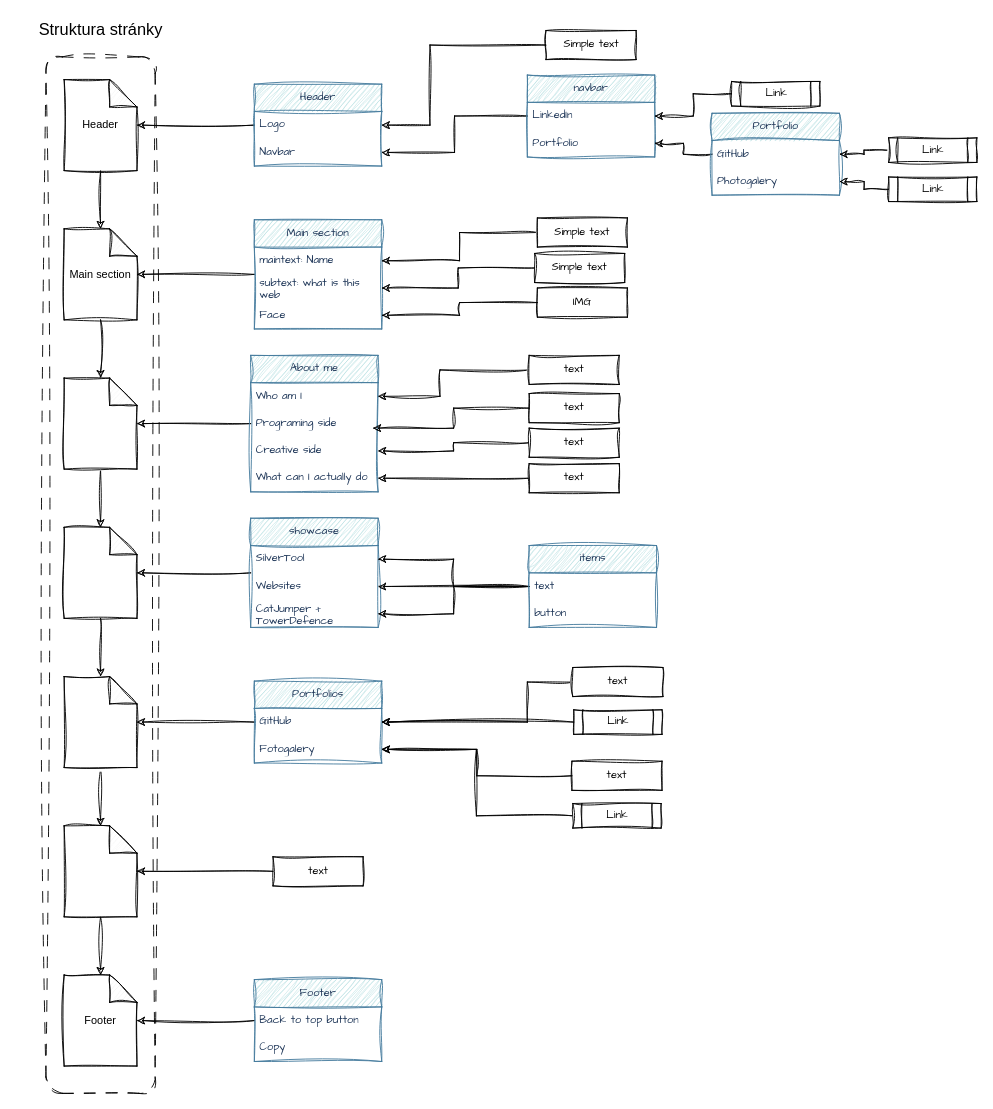
This 993x1109 diagram has some shape labels left out. The shapes that lost their labels are listed below. From the top down, each one's centre as x and y in pixels, then its label:
[100,423]: About me section
[100,572]: Project showcace
[100,722]: Portfolio secton
[100,871]: Thanks for visiting section
